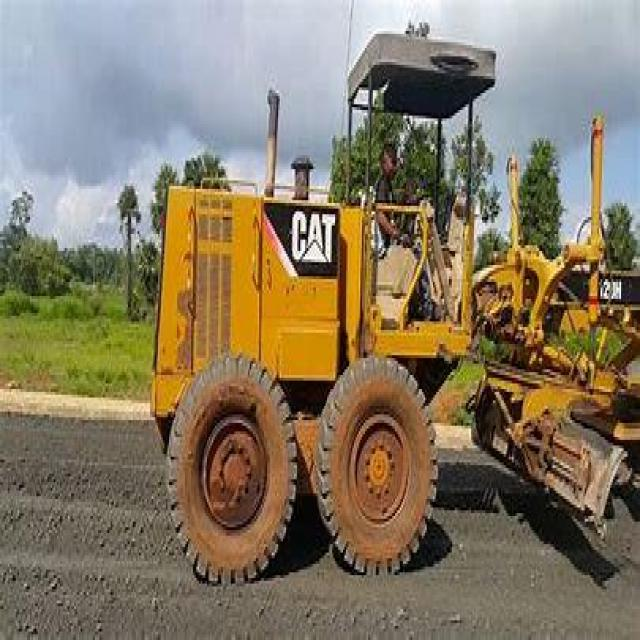Grader: (150, 11, 639, 586)
